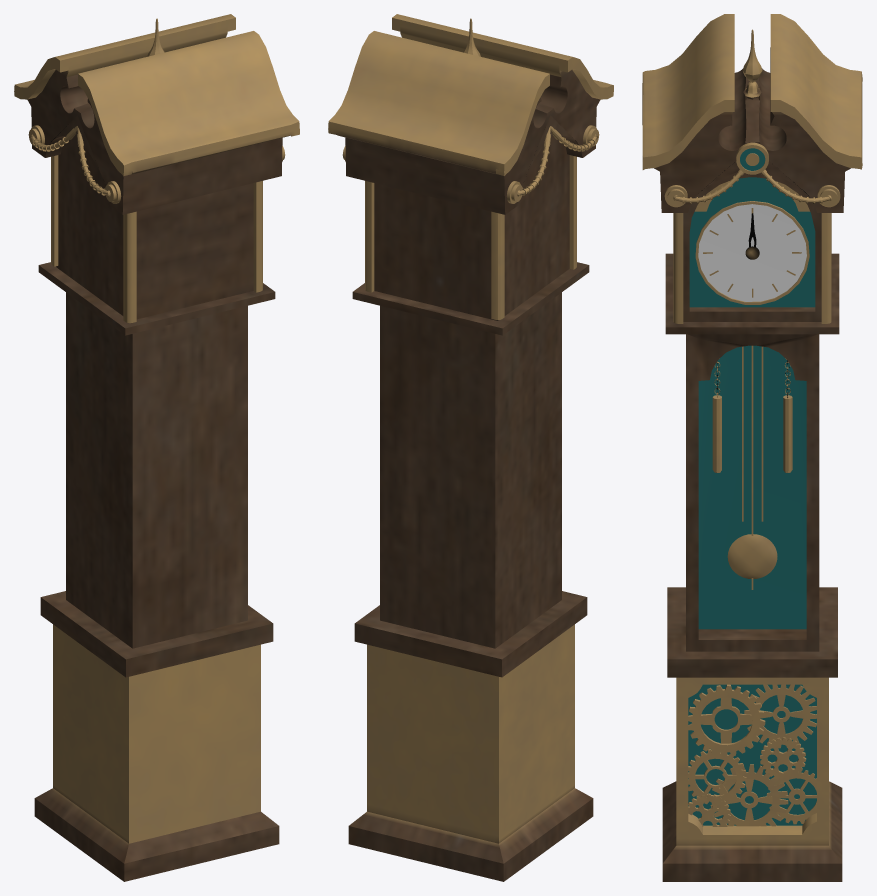
File: zegar wahadłowy.fbx
The picture shows the model from 3 angles, left to right: view 1: azimuth 30°, elevation 25°; view 2: azimuth 150°, elevation 25°; view 3: azimuth 270°, elevation 25°; orthographic projection.
Visible parts, largest first — view 1: zegar_Baked; view 2: zegar_Baked; view 3: zegar_Baked.
Boxes of the visible parts, x1,y1,x2,y2 form: zegar_Baked: (14,14,299,881); zegar_Baked: (328,14,613,881); zegar_Baked: (642,14,862,881).
Bounding box in the file's own units: 89.95 × 383 × 93.78.
2 materials, 1 textured.
